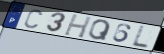3: (45, 12, 66, 34)
6: (112, 23, 132, 44)
C: (23, 9, 44, 29)
H: (62, 14, 93, 40)
L: (130, 25, 149, 49)
Q: (88, 19, 112, 42)
